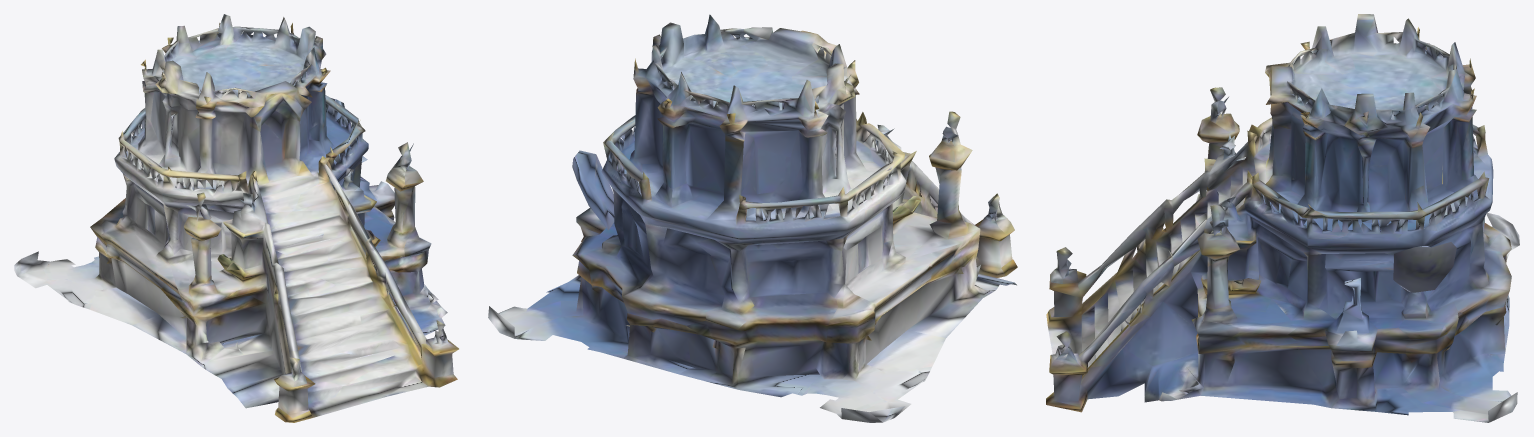
File: skystairs.glb
3 renders of one model, left to right at view 1: azimuth 30°, elevation 25°; view 2: azimuth 150°, elevation 25°; view 3: azimuth 270°, elevation 25°, orthographic. The views are drawn at different scales.
Parts seen in each view (by area): view 1: tripo_node_f14e2fa7-c74c-45f6-9af3-2ed574dd1239; view 2: tripo_node_f14e2fa7-c74c-45f6-9af3-2ed574dd1239; view 3: tripo_node_f14e2fa7-c74c-45f6-9af3-2ed574dd1239.
Boxes of the visible parts, x1,y1,x2,y2 form: tripo_node_f14e2fa7-c74c-45f6-9af3-2ed574dd1239: (14, 14, 458, 422); tripo_node_f14e2fa7-c74c-45f6-9af3-2ed574dd1239: (488, 14, 1017, 422); tripo_node_f14e2fa7-c74c-45f6-9af3-2ed574dd1239: (1046, 14, 1519, 422).
Bounding box in the file's own units: 0.9921 × 0.7122 × 0.9977.
Materials: 1 (1 with a texture image).
